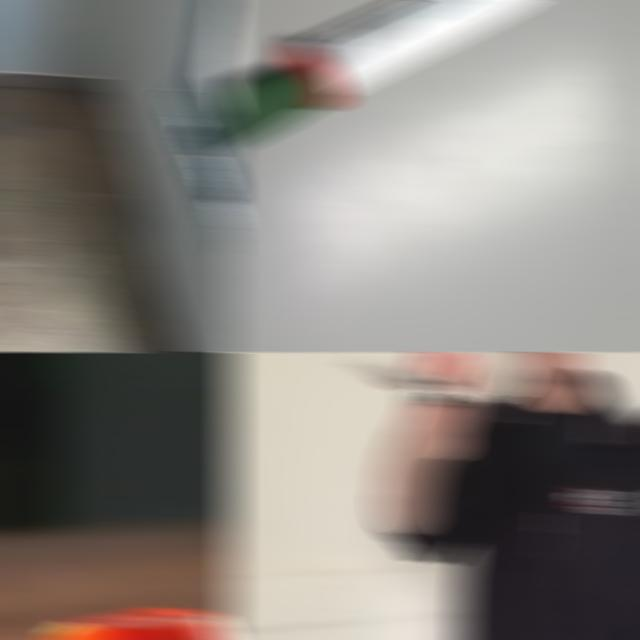Knife: (222, 0, 539, 148)
Knife_Handle: (0, 421, 238, 640), (344, 352, 488, 461)
